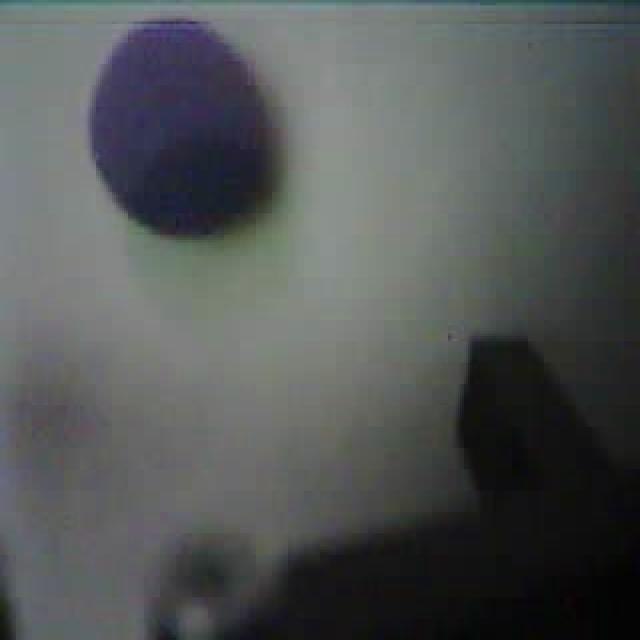blue_ball: (86, 16, 282, 243)
